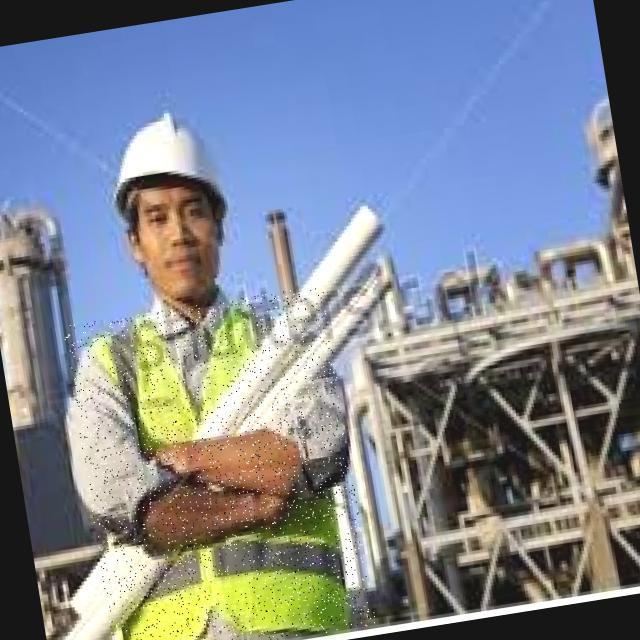helmet: (111, 111, 230, 221)
vest: (62, 285, 376, 640)
